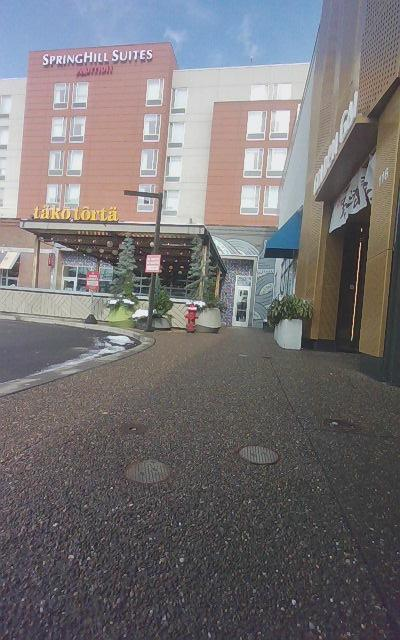curb: (0, 329, 399, 639)
road: (0, 320, 138, 382)
